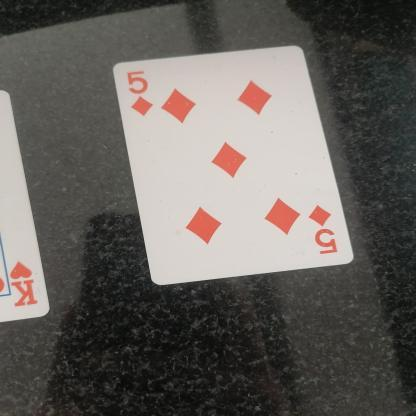5D: (124, 67, 154, 130)
KH: (6, 250, 46, 324)
